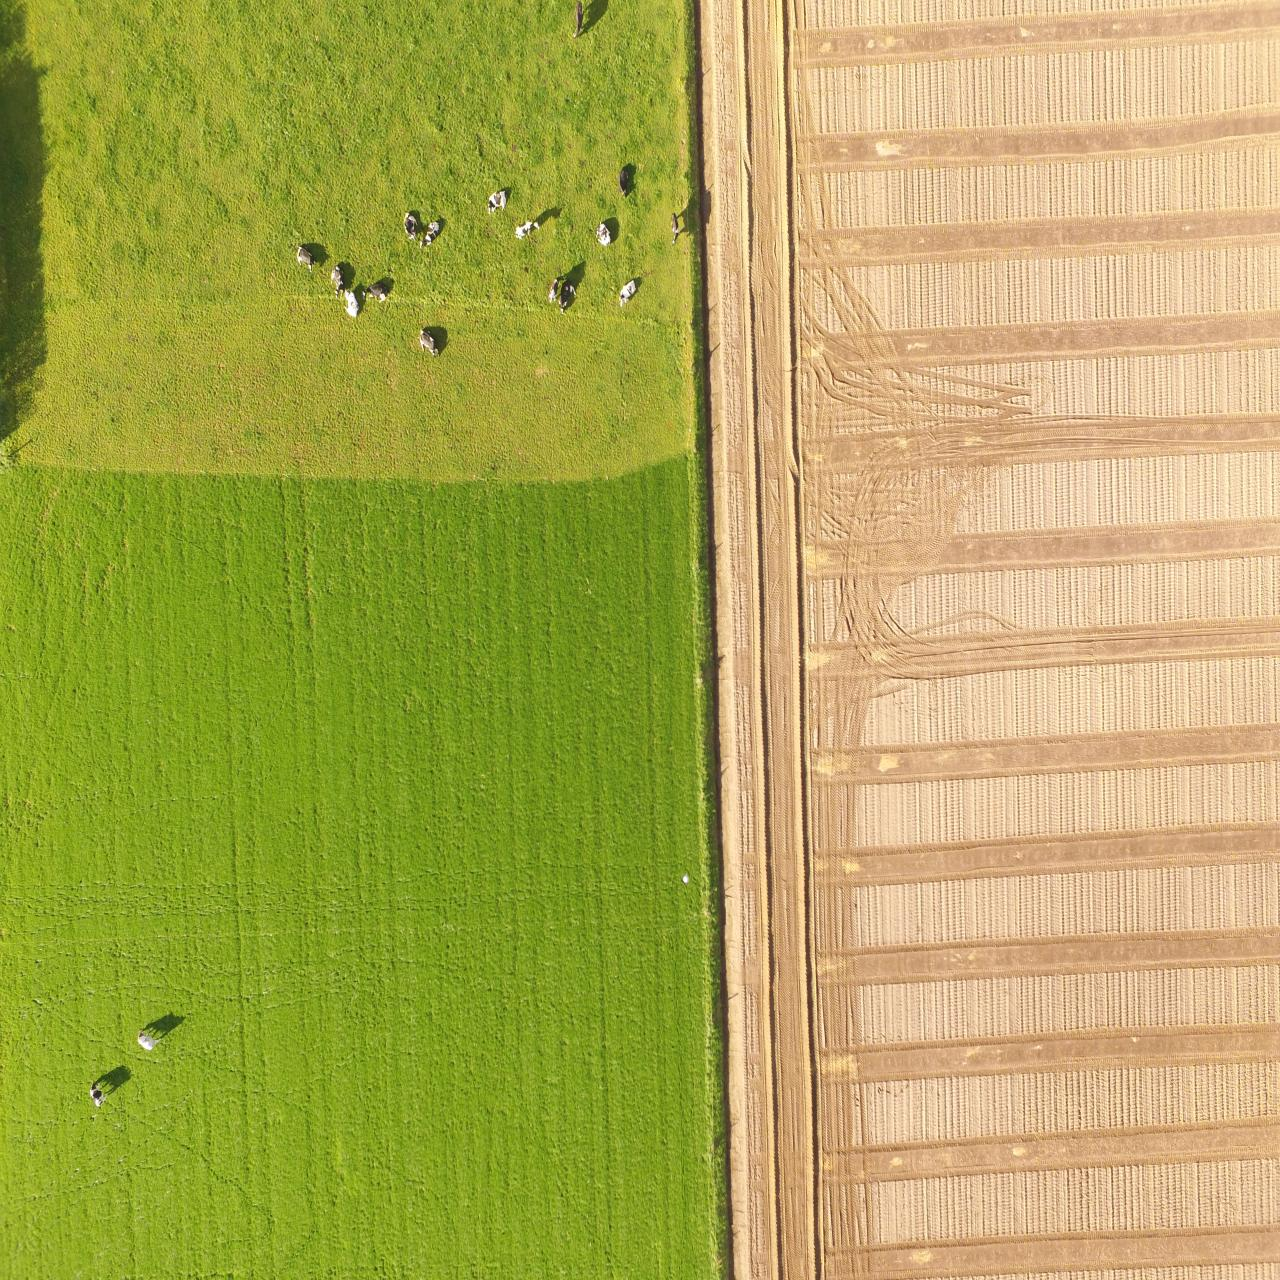cow: (418, 328, 441, 360), (136, 1028, 162, 1051), (297, 244, 316, 273), (421, 218, 441, 246), (619, 277, 636, 307), (559, 281, 577, 312), (361, 284, 389, 302), (401, 211, 417, 243), (343, 287, 360, 319), (488, 188, 506, 215), (331, 265, 346, 298), (89, 1081, 107, 1108), (572, 0, 584, 39), (594, 219, 611, 245), (515, 222, 539, 238), (547, 275, 560, 305), (617, 166, 628, 198), (670, 211, 680, 247)
